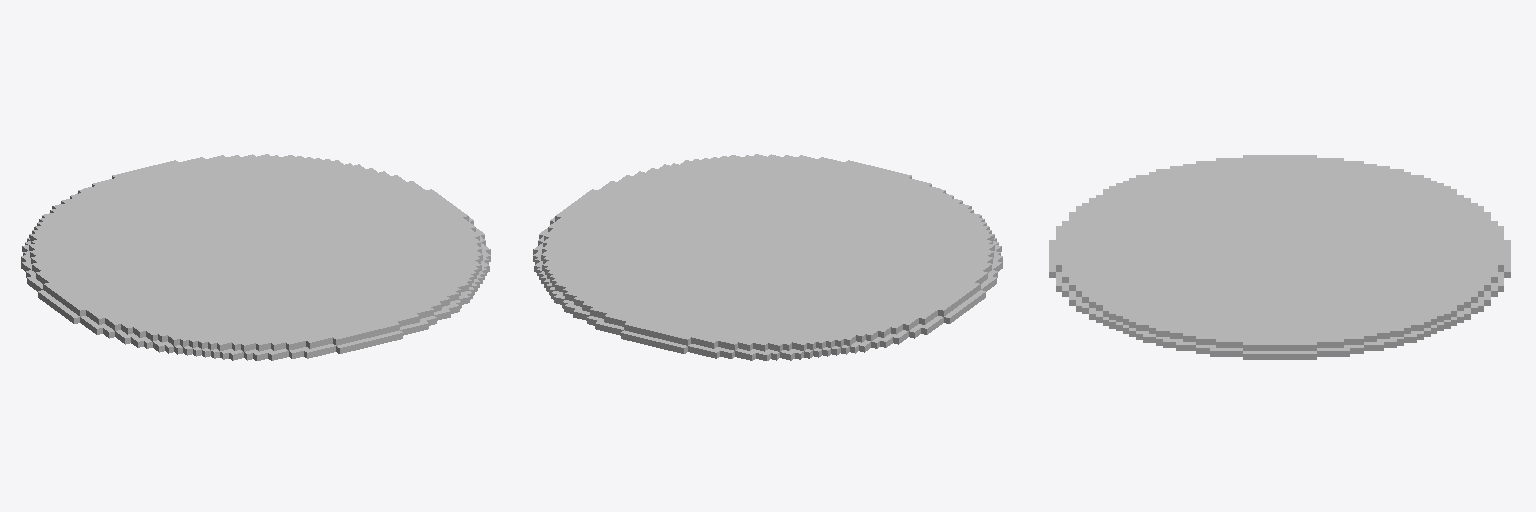
Rendered from pressure plate(justbutton).obj.
3 renders of one model, left to right at view 1: azimuth 30°, elevation 25°; view 2: azimuth 150°, elevation 25°; view 3: azimuth 270°, elevation 25°, orthographic.
Bounding box in the file's own units: 69 × 2 × 69.